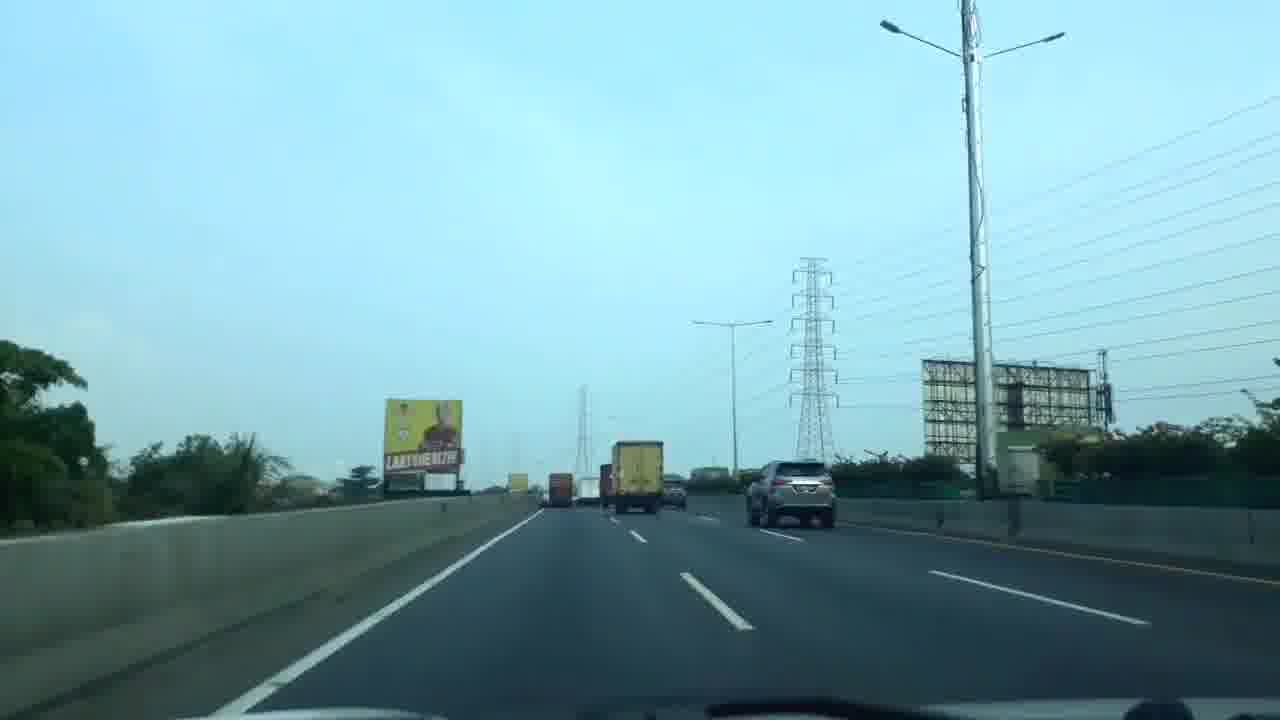plate_positive: (796, 486, 816, 493)
